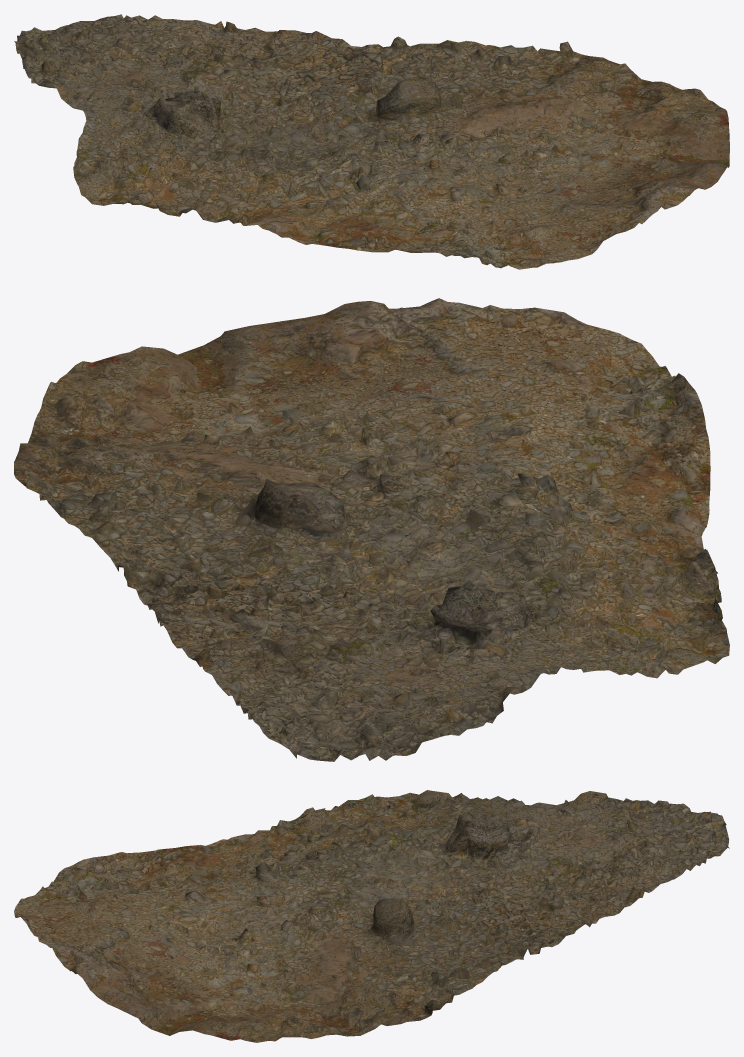
The model's file is coast_land_rocks_04.gltf.
The picture shows the model from 3 angles, top to bottom: view 1: azimuth 30°, elevation 25°; view 2: azimuth 150°, elevation 25°; view 3: azimuth 270°, elevation 25°; orthographic projection. The views are drawn at different scales.
Parts seen in each view (by area): view 1: coast_land_rocks_04__x; view 2: coast_land_rocks_04__x; view 3: coast_land_rocks_04__x.
Boxes of the visible parts, box(x1,y1,x2,y2) form: coast_land_rocks_04__x: box(14, 14, 729, 269); coast_land_rocks_04__x: box(14, 298, 729, 761); coast_land_rocks_04__x: box(14, 790, 729, 1042).
Size of the model in its own units: 9.97 by 0.8252 by 11.5.
Materials: 1 (1 with a texture image).
